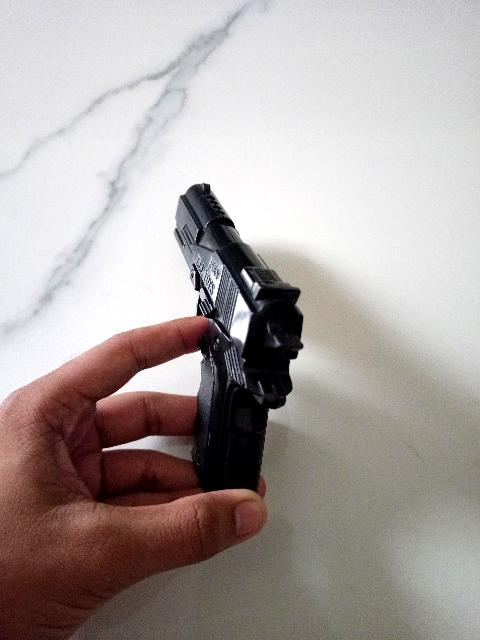pistol: (176, 179, 308, 491)
